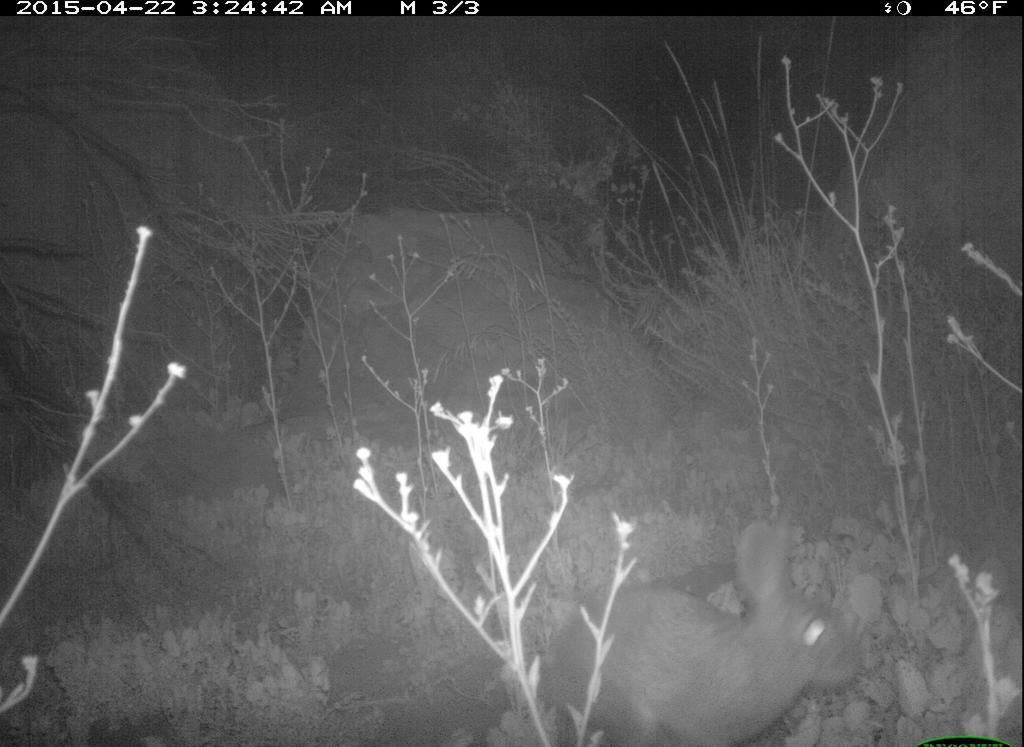rabbit: (542, 511, 863, 747)
